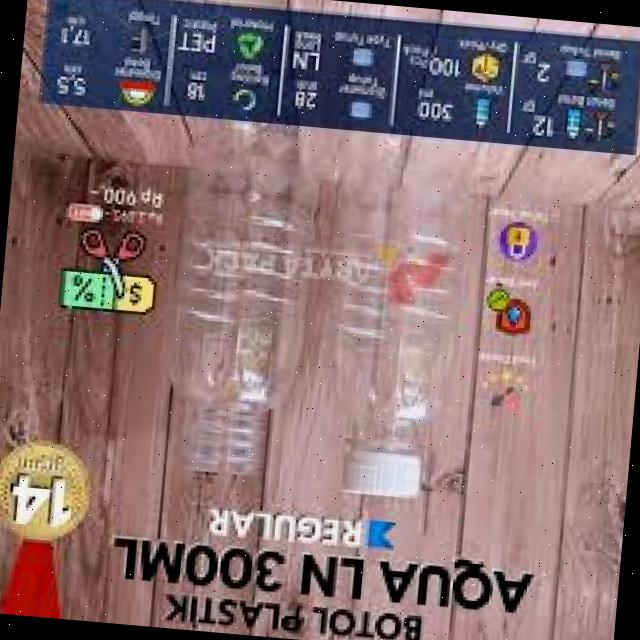bottle: (137, 108, 316, 488), (294, 135, 476, 508)
cap: (336, 446, 429, 504)
